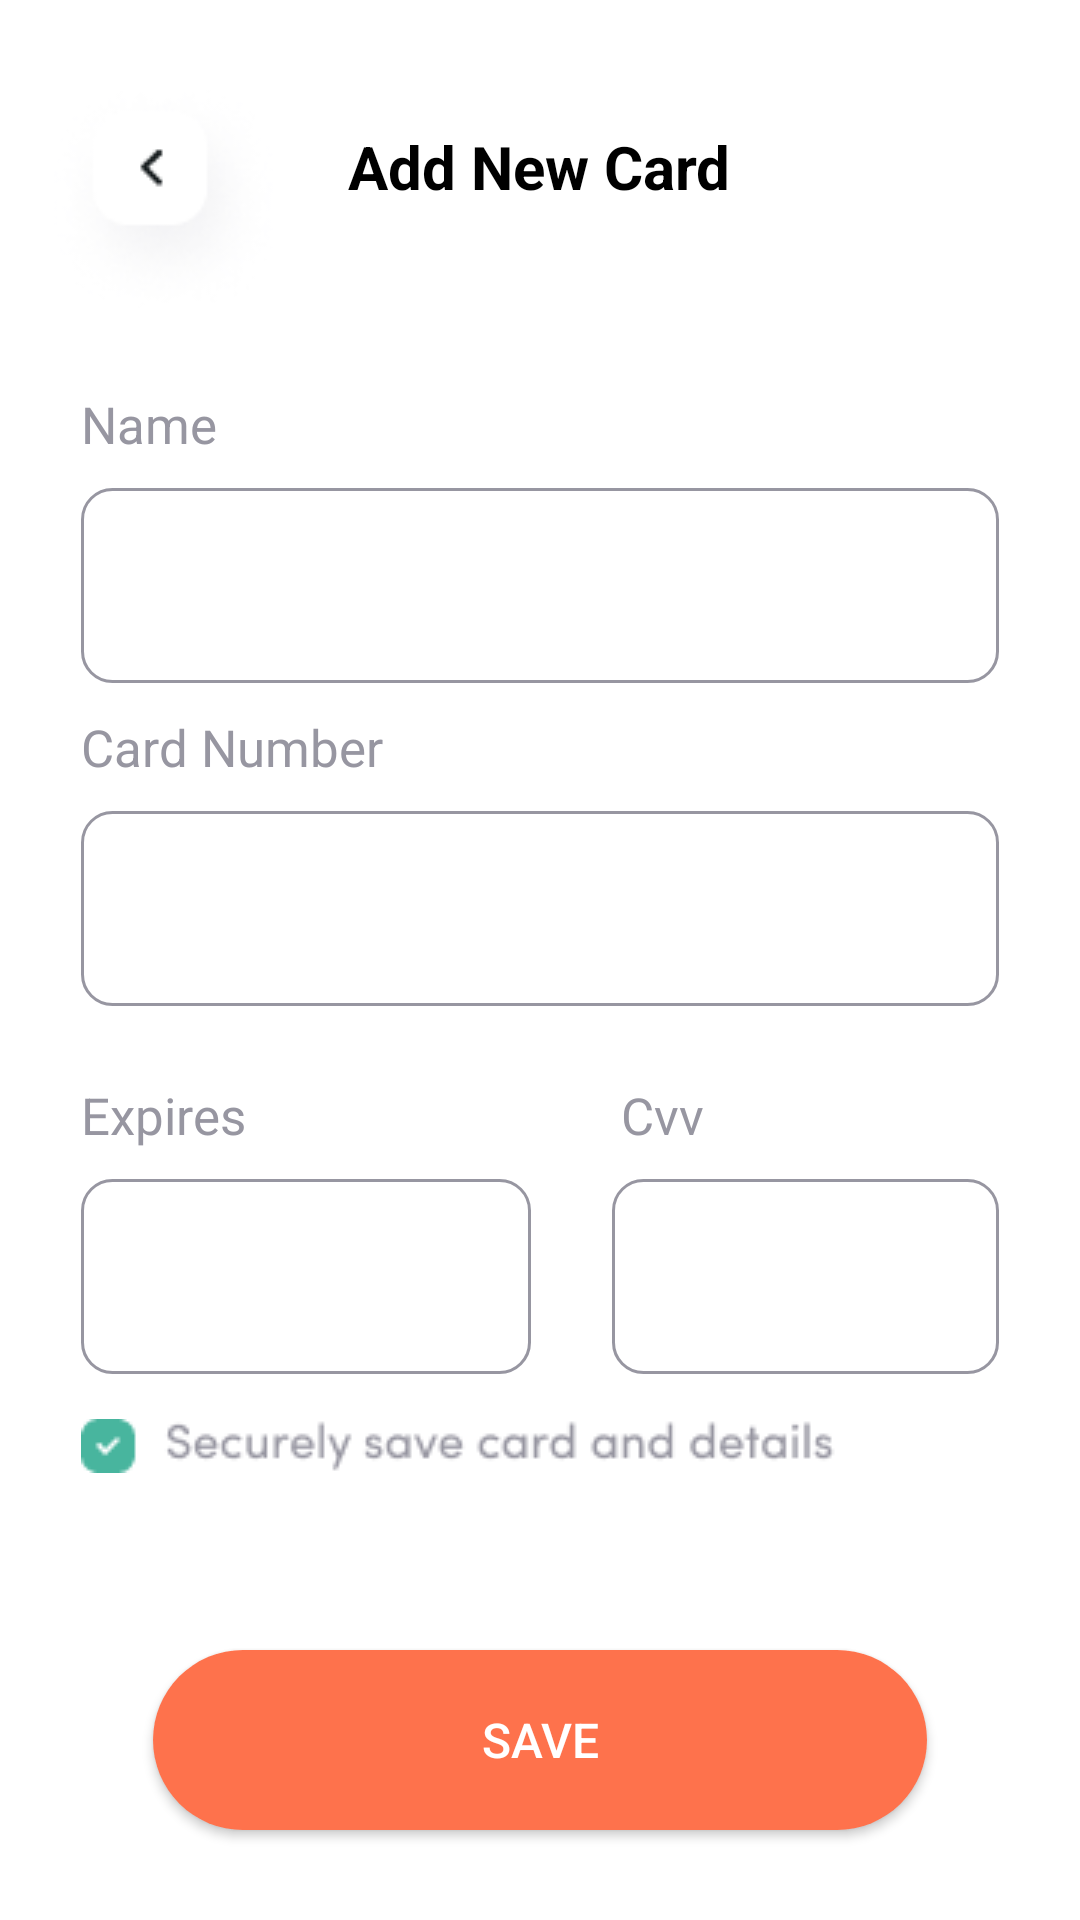

Icons on this 1080*1920 Android screen, each with its box as box(x1, y1, x2, y2):
backbtn: box(140, 149, 163, 187)
